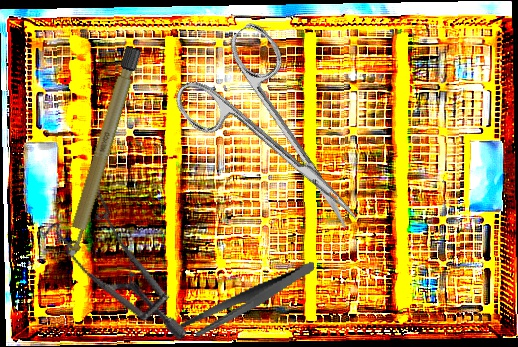Dressing Forceps: (172, 260, 324, 341)
Iris Scissors: (164, 18, 394, 263)
Scalpel Handle: (61, 45, 142, 262)
Speculum: (24, 173, 226, 343)
